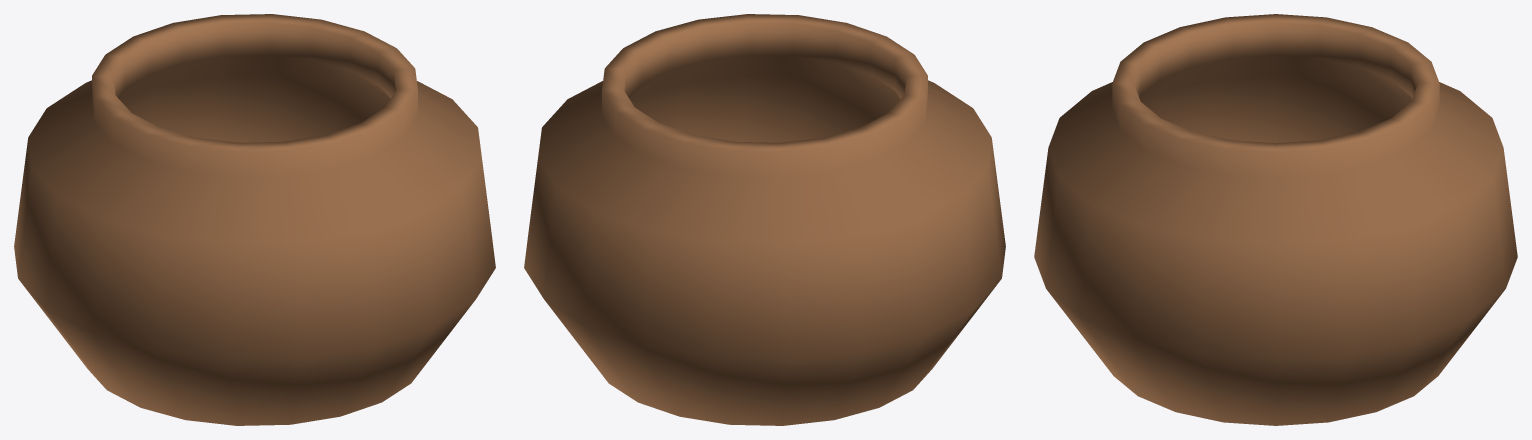
Rendered from cooking-pot-normal.glb.
3 views of the same model, side by side, from view 1: azimuth 30°, elevation 25°; view 2: azimuth 150°, elevation 25°; view 3: azimuth 270°, elevation 25° (orthographic).
Visible parts, largest first — view 1: cooking-pot; view 2: cooking-pot; view 3: cooking-pot.
Boxes of the visible parts, x1=… form: cooking-pot: x1=14, y1=14, x2=495, y2=425; cooking-pot: x1=524, y1=14, x2=1005, y2=425; cooking-pot: x1=1034, y1=14, x2=1517, y2=425.
Size of the model in its own units: 0.68 by 0.42 by 0.68.
